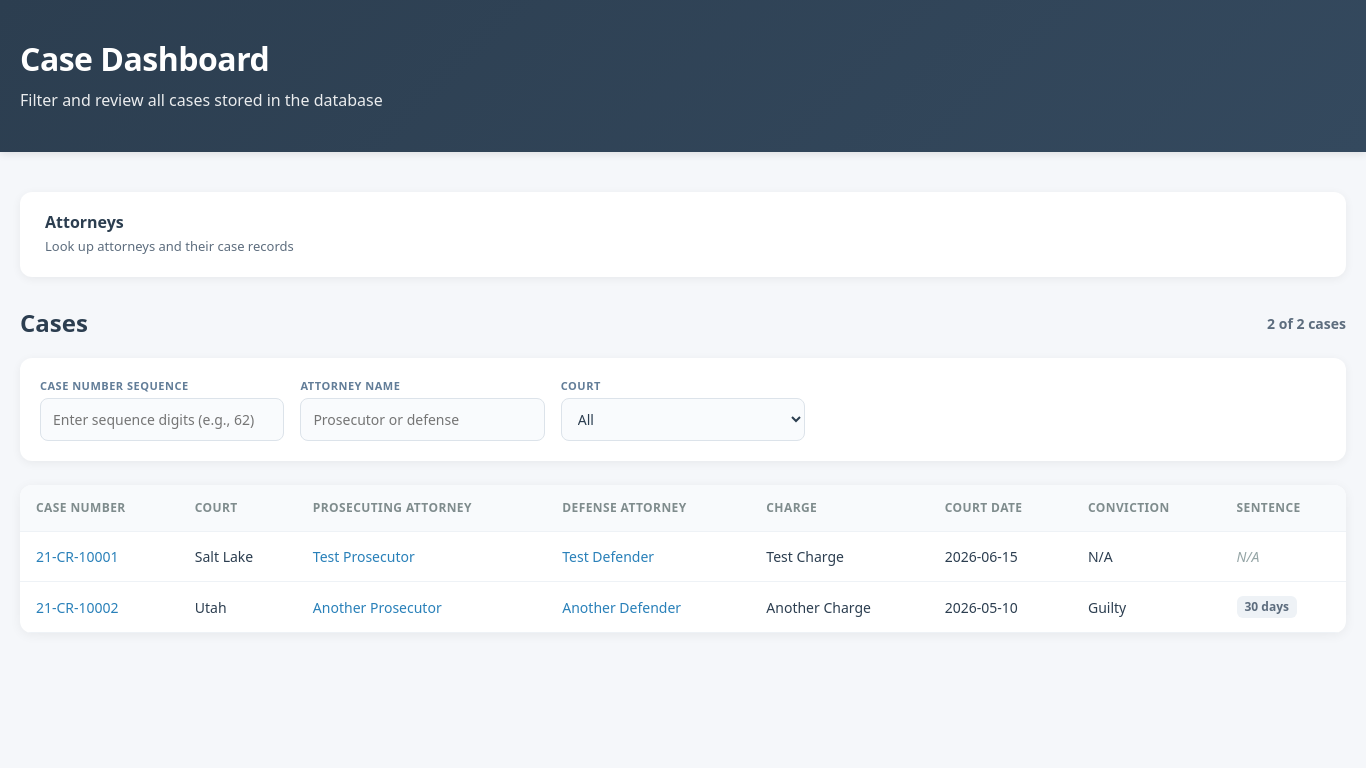
Test: Home dashboard › filters cases by case number
In the search field labelled "Case Number Sequence": (162, 420) [40,398,284,441], type "10001"
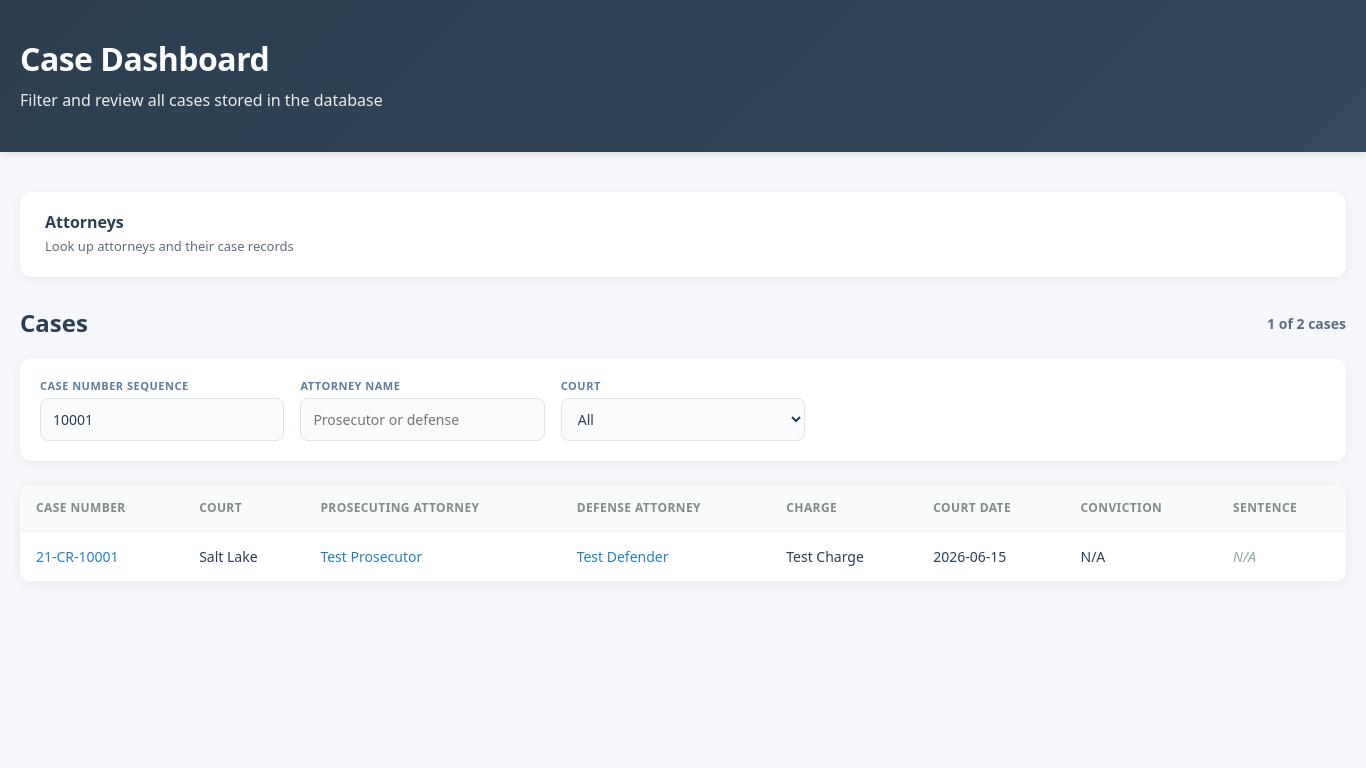
Expected: the link "21-CR-10001" is shown, [36,547,119,566]
Now the link "21-CR-10002" is gone
